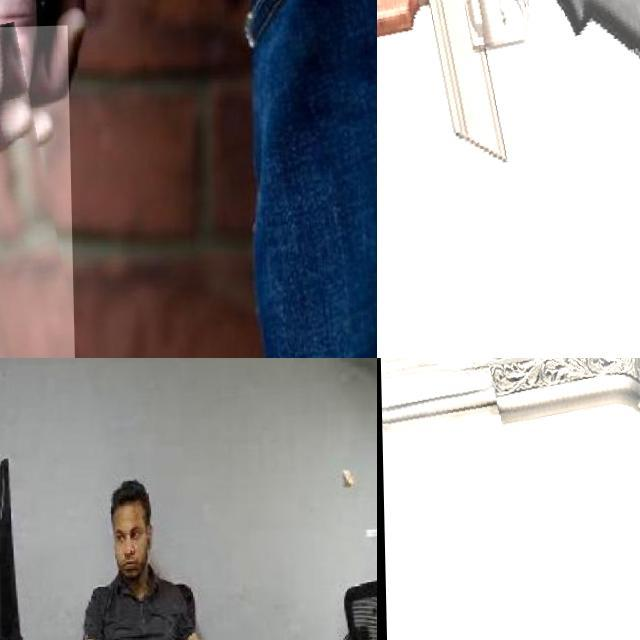-: (0, 27, 104, 358)
gun-knife-thesis - v11 Yolov5 augmented: (377, 0, 640, 358), (377, 358, 640, 640)
